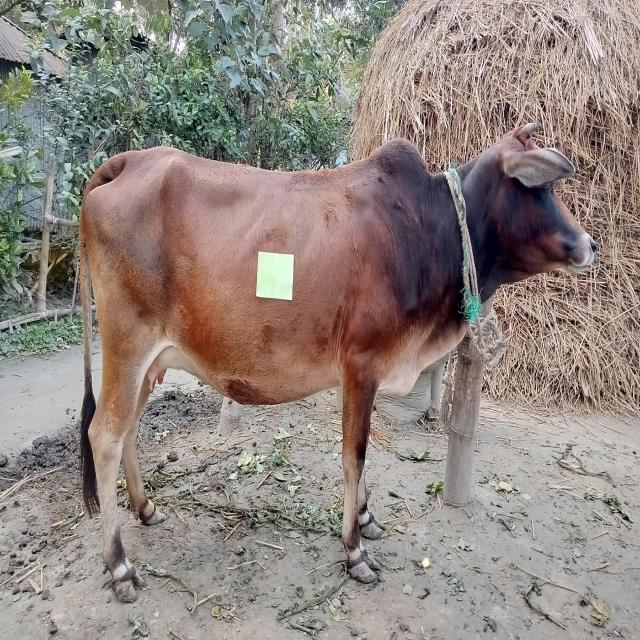badan_sapi: (105, 163, 390, 396)
sapi: (72, 117, 602, 604)
